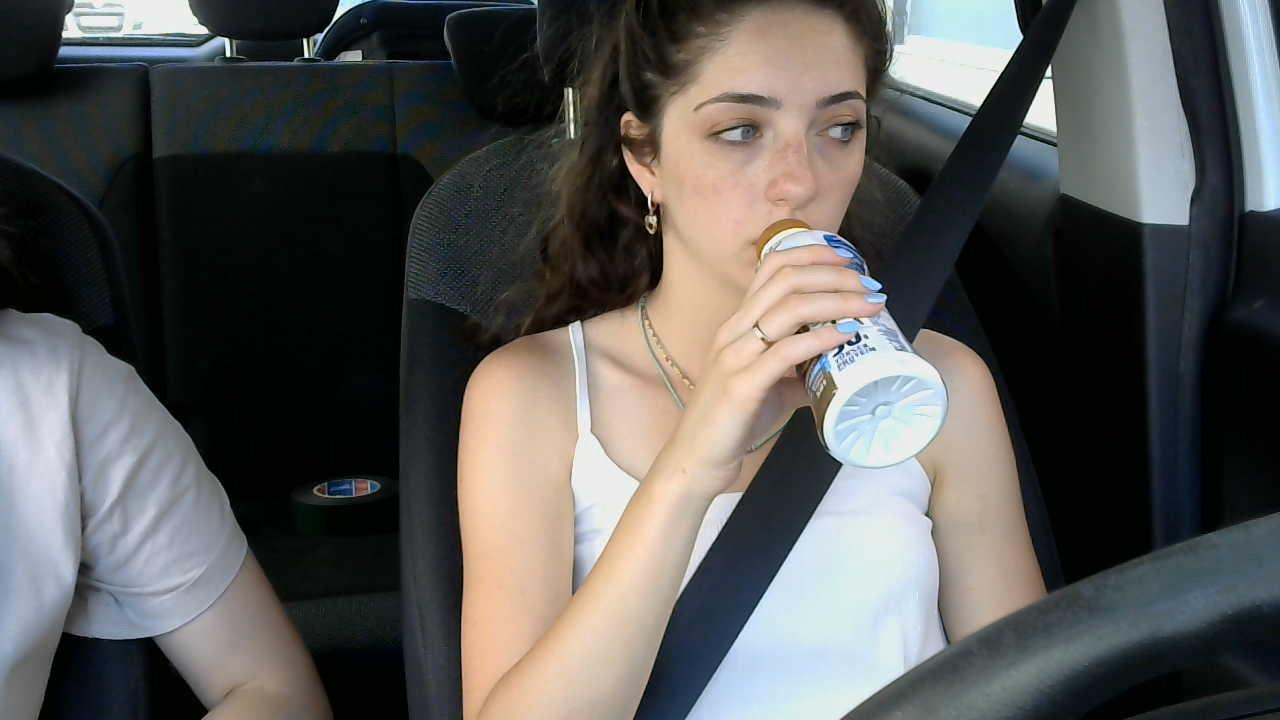Drinking: (753, 217, 950, 473)
